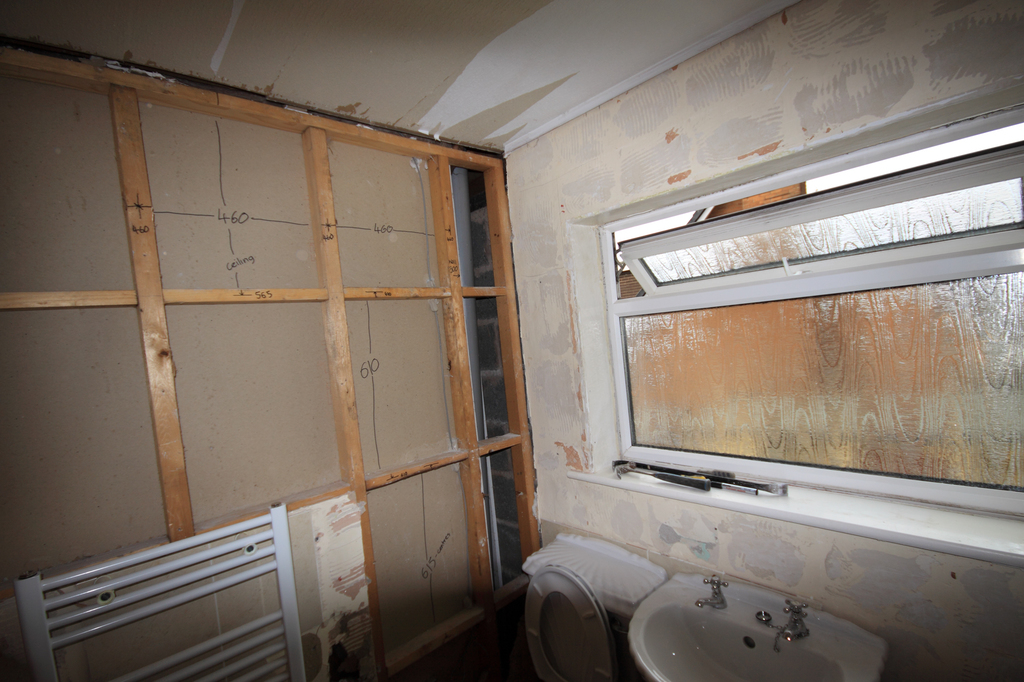tap: (776, 592, 812, 655), (693, 575, 730, 610)
